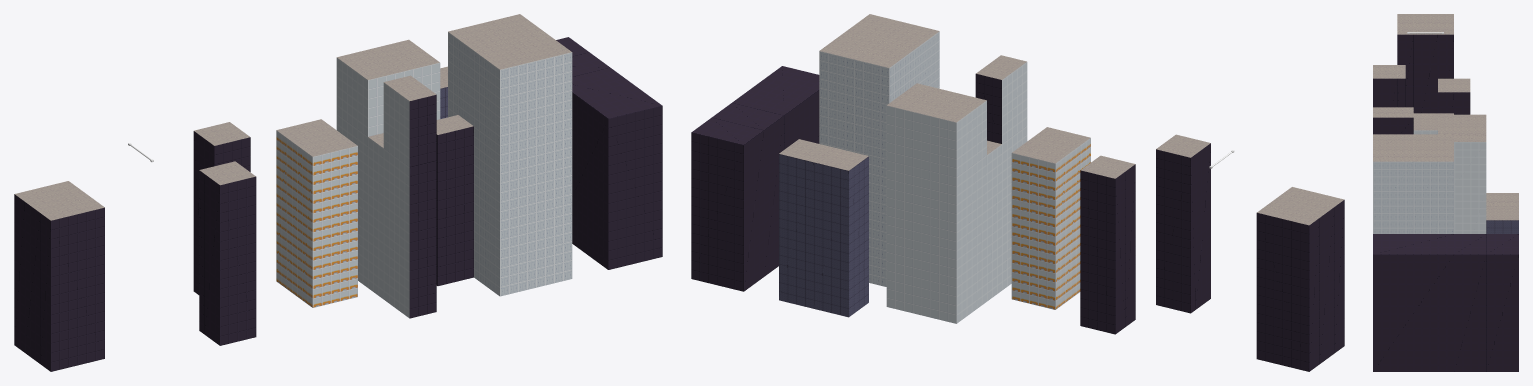
File: Module_4.fbx
3 views of the same model, side by side, from view 1: azimuth 30°, elevation 25°; view 2: azimuth 150°, elevation 25°; view 3: azimuth 270°, elevation 25° (orthographic). The views are drawn at different scales.
Parts seen in each view (by area): view 1: Module_4; view 2: Module_4; view 3: Module_4.
Part boxes in pixels (box(x1,y1,x2,y2)): Module_4: box(14, 14, 662, 371); Module_4: box(691, 14, 1344, 371); Module_4: box(1373, 14, 1518, 371).
Bounding box in the file's own units: 6600 × 2400 × 1800.
7 materials, 6 textured.
